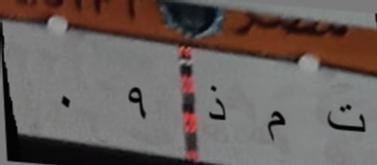0: (53, 84, 78, 115)
9: (125, 83, 150, 123)
meem: (259, 104, 289, 154)
taa: (322, 100, 370, 138)
zaal: (199, 79, 229, 133)
